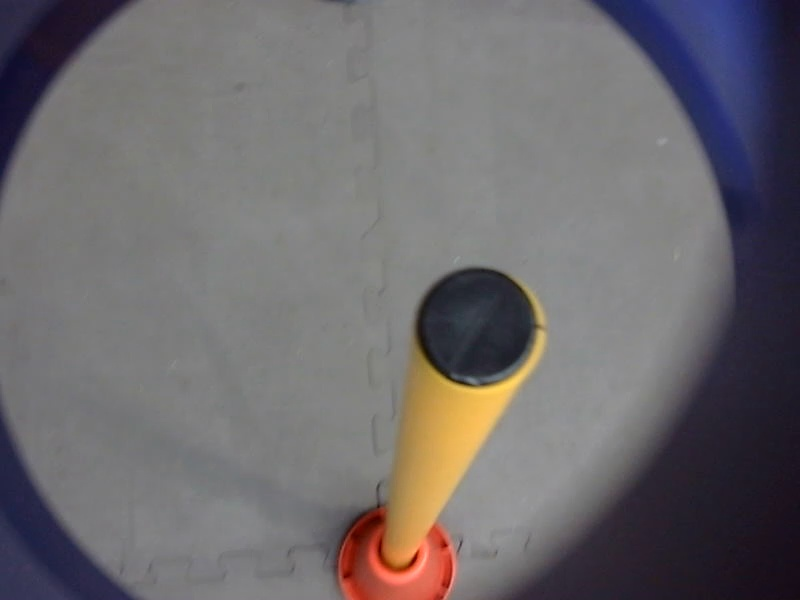tip: (404, 256, 554, 401)
